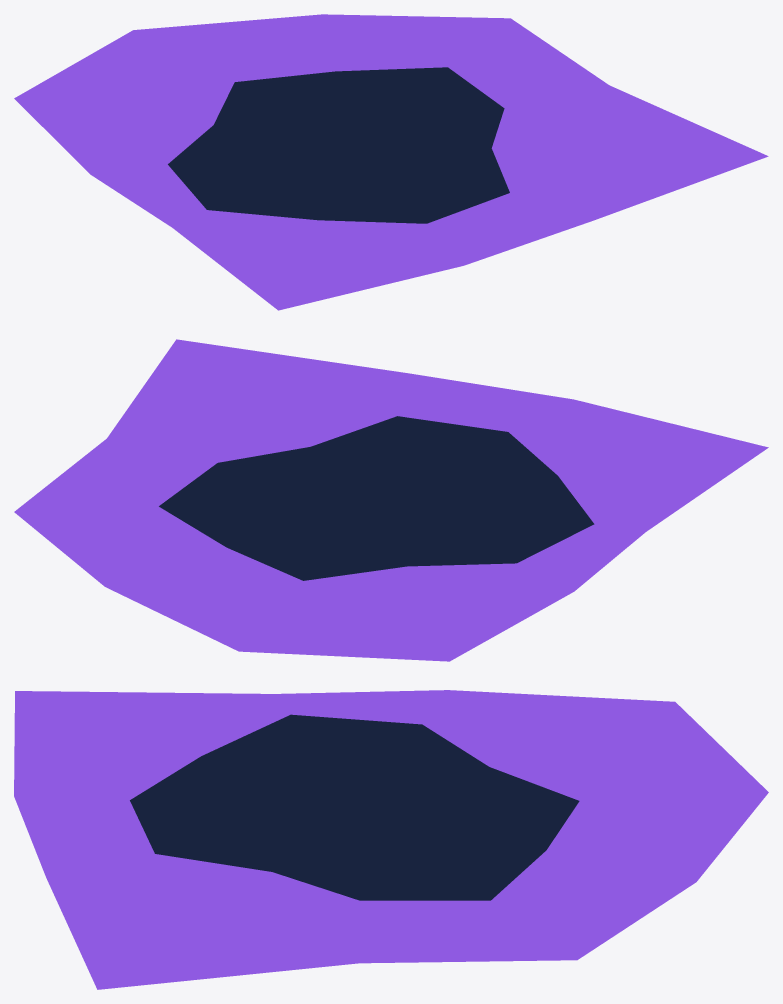
File: fx_stain_decal.glb
The picture shows the model from 3 angles, top to bottom: view 1: azimuth 30°, elevation 25°; view 2: azimuth 150°, elevation 25°; view 3: azimuth 270°, elevation 25°; orthographic projection. The views are drawn at different scales.
Visible parts, largest first — view 1: fx_stain_decal; view 2: fx_stain_decal; view 3: fx_stain_decal.
Part boxes in pixels (<box>): fx_stain_decal: <box>14,14,768,310</box>; fx_stain_decal: <box>14,339,768,661</box>; fx_stain_decal: <box>14,690,768,989</box>.
Size of the model in its own units: 2.19 by 0.01 by 2.33.
